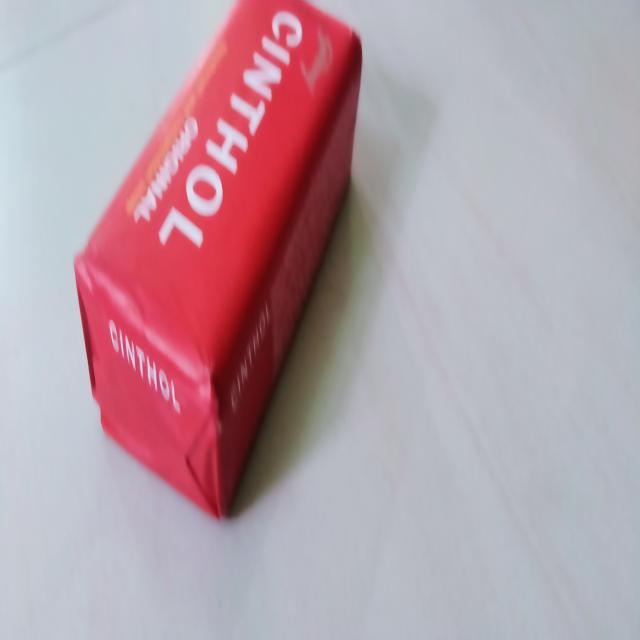soap: (74, 2, 363, 520)
